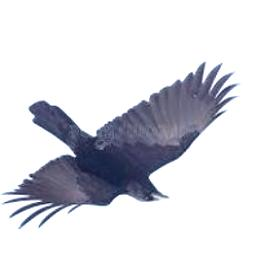Crow: (0, 64, 238, 230)
